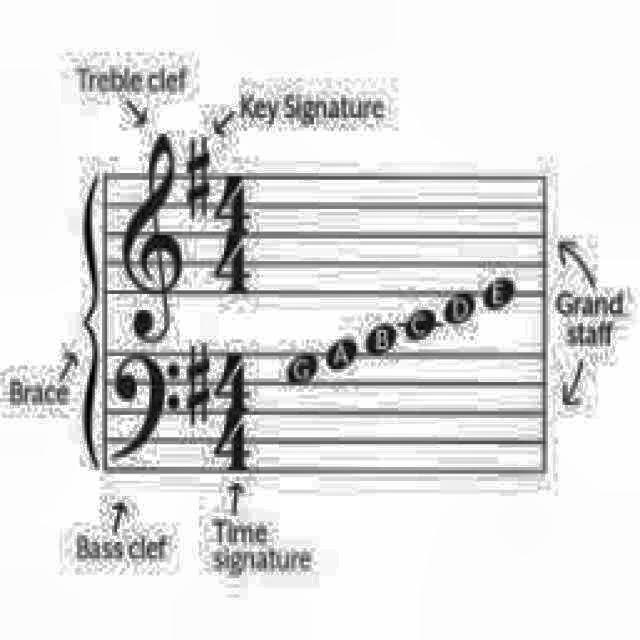Bass-clef: (110, 348, 182, 468)
Treble-clef: (121, 121, 187, 347)
